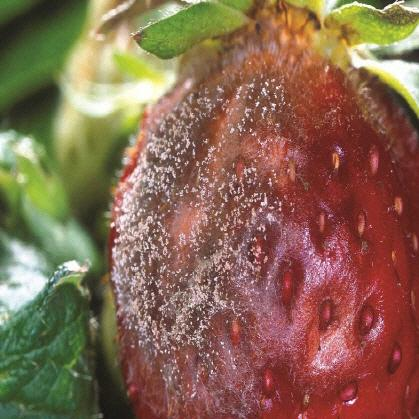Gray Mold: (108, 14, 418, 418)
